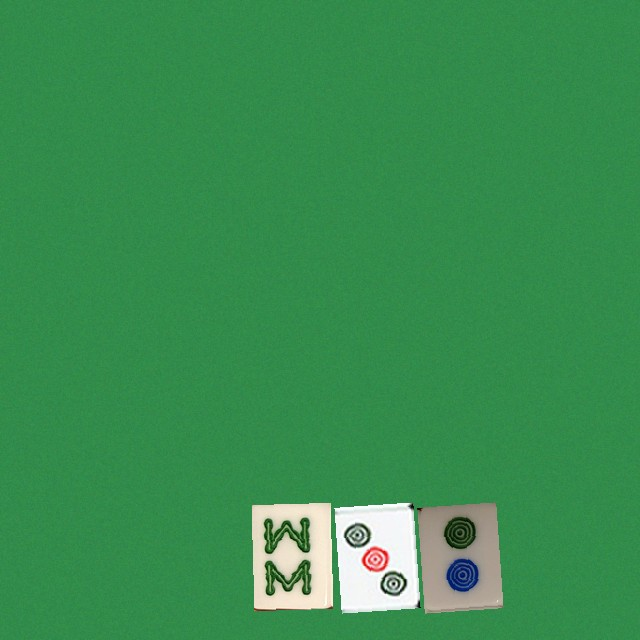tile: (251, 502, 330, 608), (334, 502, 413, 608), (417, 502, 496, 608)
